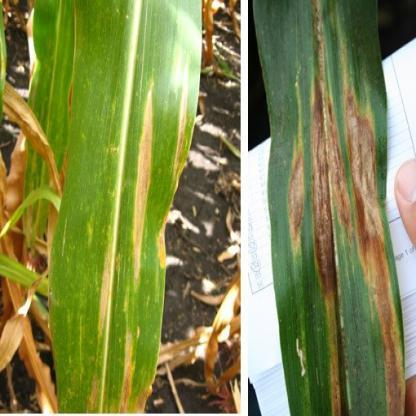Corn leaf blight: (47, 3, 202, 414), (258, 6, 402, 415)
